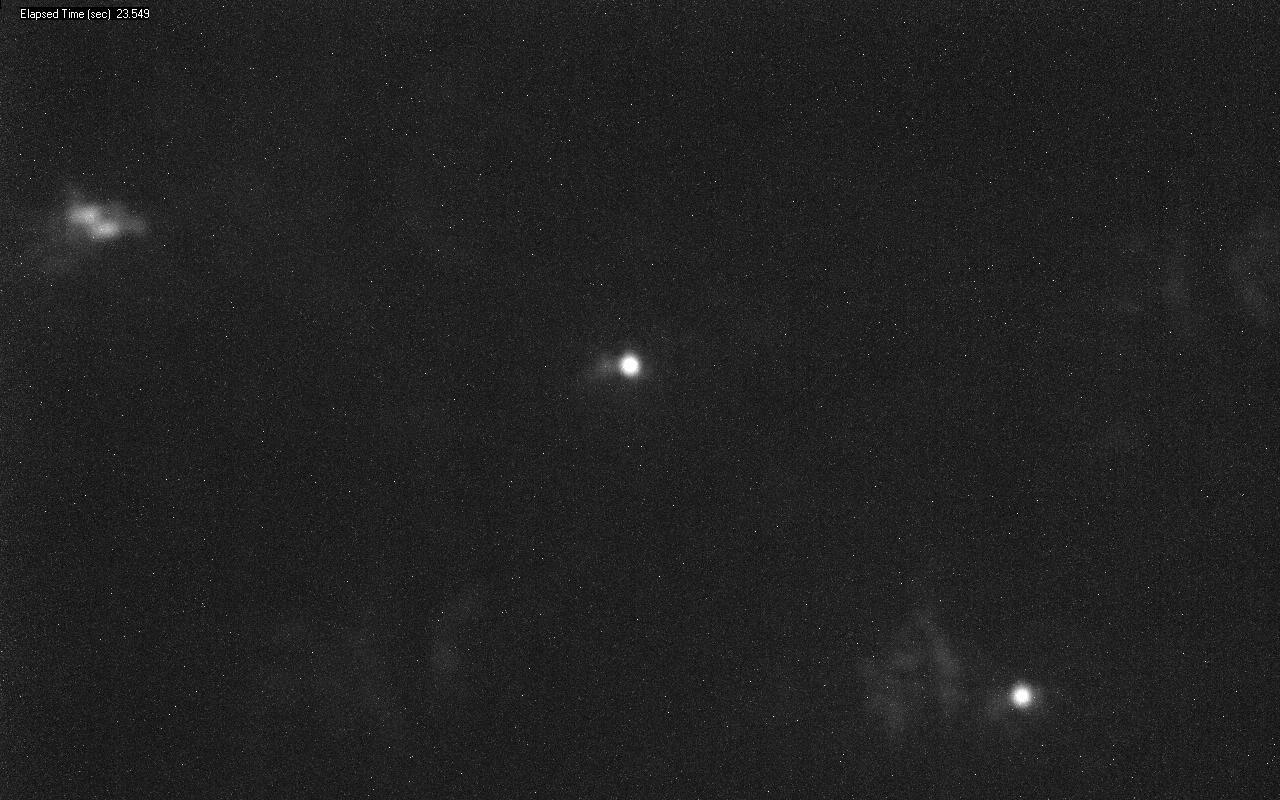Bead: (1011, 685, 1032, 706), (619, 355, 639, 376)
